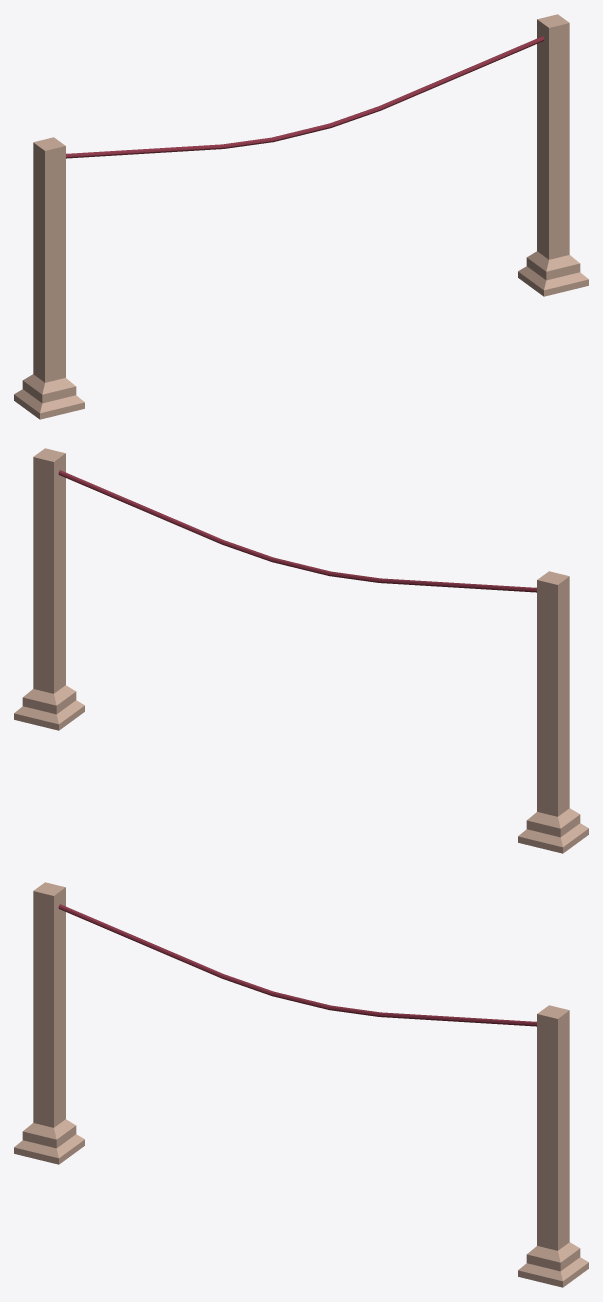
Rendered from ropebarrier.glb.
3 views of the same model, one above another, from view 1: azimuth 30°, elevation 25°; view 2: azimuth 150°, elevation 25°; view 3: azimuth 330°, elevation 25° (orthographic).
Parts seen in each view (by area): view 1: RopeBarrier; view 2: RopeBarrier; view 3: RopeBarrier.
Boxes of the visible parts, left/top/right/bottom form: RopeBarrier: left=14, top=14, right=588, bottom=419; RopeBarrier: left=14, top=448, right=588, bottom=853; RopeBarrier: left=14, top=882, right=588, bottom=1287.
Bounding box in the file's own units: 2 × 0.9072 × 0.164.
1 material, 1 textured.
